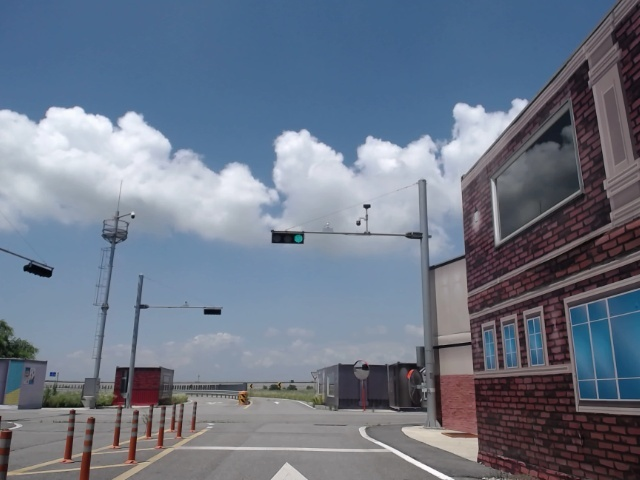green_3: (272, 234, 304, 244)
